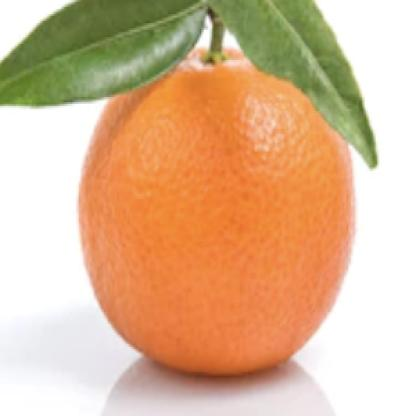fresh: (77, 24, 356, 373)
